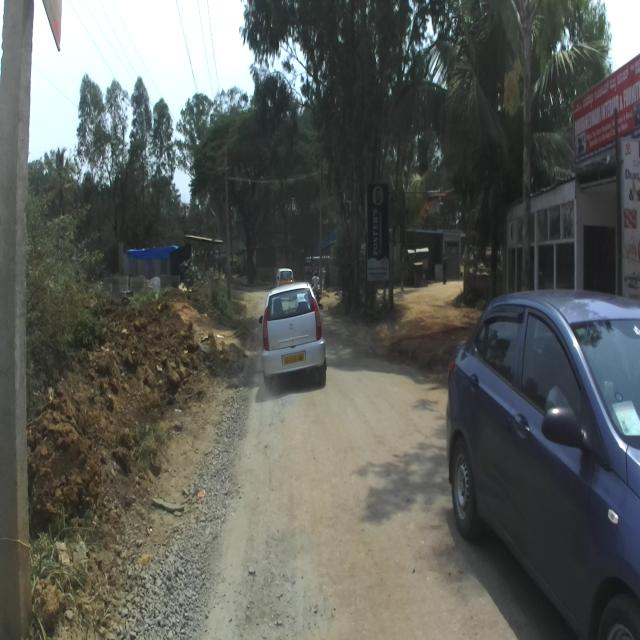car ahead at: (452, 289, 640, 640), (260, 289, 330, 386)
